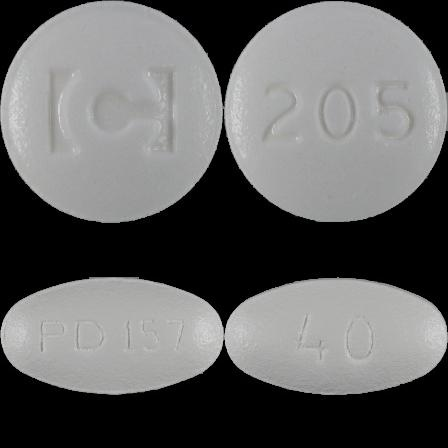42254-014: (0, 0, 224, 224)
